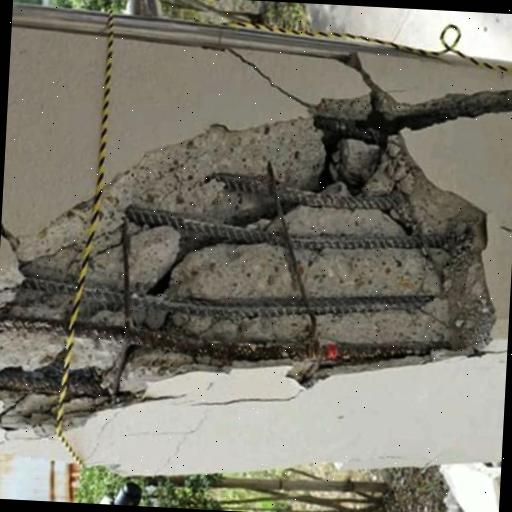spalling: (0, 46, 512, 439), (220, 42, 301, 101), (194, 388, 297, 413)
